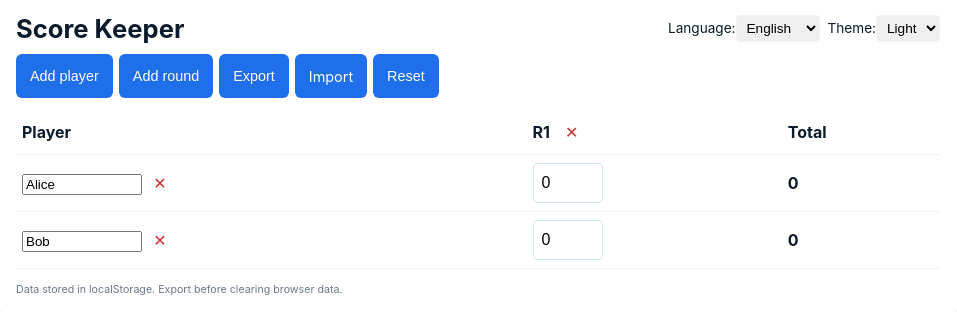
Scenario: App interactions › adds a round column when "Add round" is clicked
Click the button "Add round" at (166, 76), box [119, 54, 213, 98]
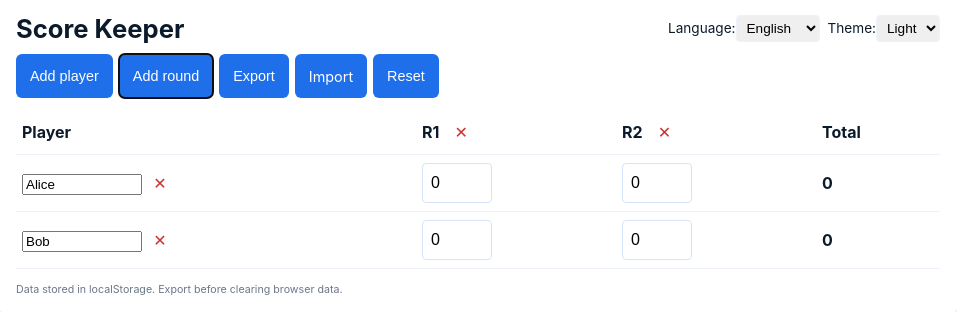
expect the number of column headings is 4: met, box [16, 110, 416, 154]; [416, 110, 616, 154]; [616, 110, 816, 154]; [816, 110, 940, 154]
